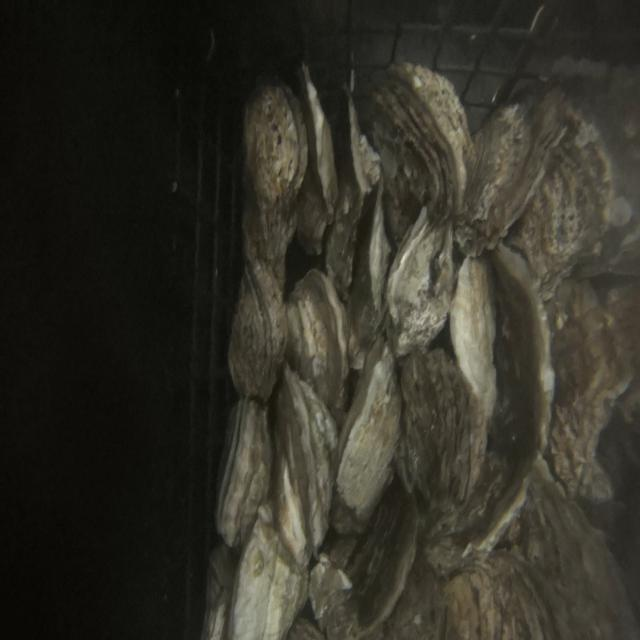Oyster- Indeterminate: (429, 240, 564, 566), (427, 67, 580, 269), (358, 54, 488, 245), (545, 280, 634, 503), (327, 475, 442, 640), (323, 333, 418, 531), (259, 364, 343, 569), (202, 514, 313, 640), (398, 349, 470, 509), (222, 257, 298, 402), (444, 548, 559, 640), (242, 85, 309, 205), (319, 177, 367, 301), (450, 258, 495, 380)
Oyster-Closed: (381, 204, 460, 360), (283, 268, 350, 418), (213, 396, 278, 550)
